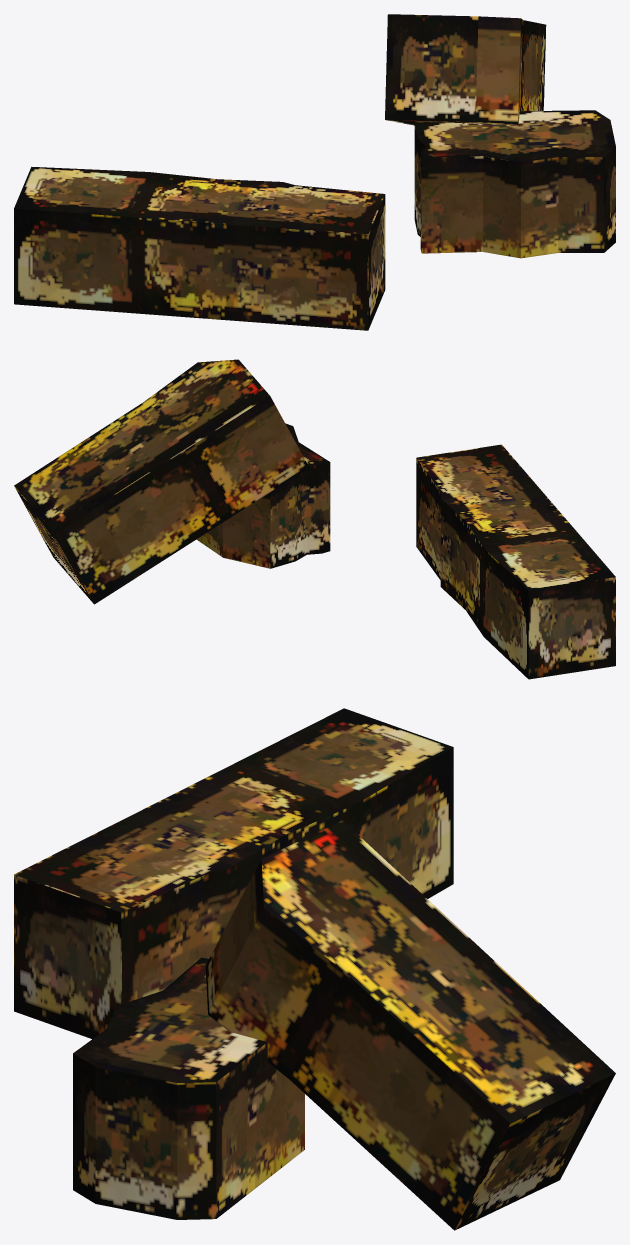
Rendered from stoneBricksB.fbx.
The picture shows the model from 3 angles, top to bottom: view 1: azimuth 30°, elevation 25°; view 2: azimuth 150°, elevation 25°; view 3: azimuth 270°, elevation 25°; orthographic projection. The views are drawn at different scales.
Visible parts, largest first — view 1: stoneBricksB; view 2: stoneBricksB; view 3: stoneBricksB.
Part boxes in pixels (x1=…): stoneBricksB: x1=14, y1=14, x2=615, y2=330; stoneBricksB: x1=14, y1=359, x2=615, y2=679; stoneBricksB: x1=14, y1=708, x2=615, y2=1230.
Size of the model in its own units: 1.39 by 0.4575 by 0.8616.
Materials: 1 (1 with a texture image).
